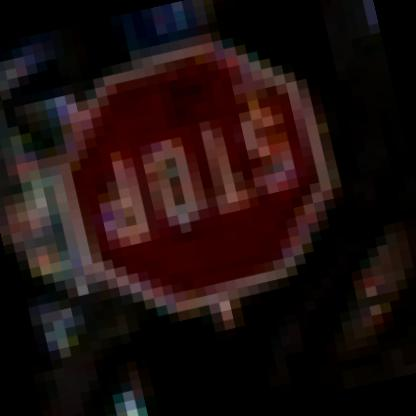stop: (35, 18, 348, 330)
